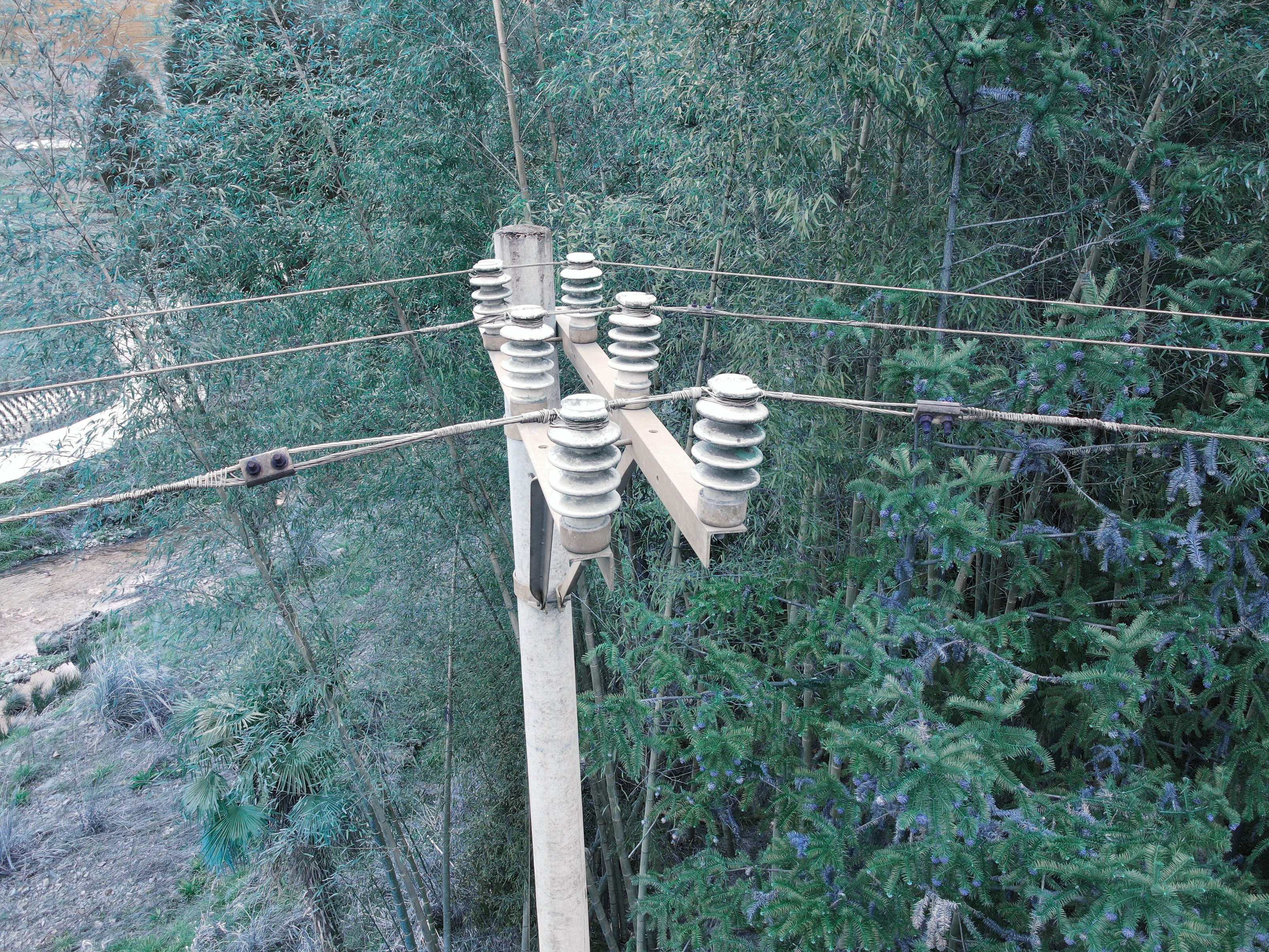severe_soiling_no_discharge_whole: (544, 391, 625, 555), (691, 367, 770, 529), (499, 299, 558, 423), (606, 288, 664, 411), (468, 253, 516, 351), (557, 248, 605, 345)
